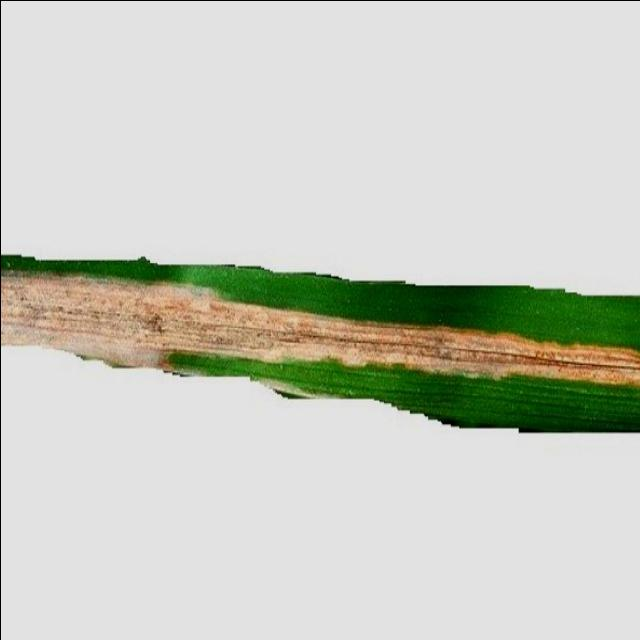Bacterial_Leaf_Blight: (0, 274, 640, 398)
